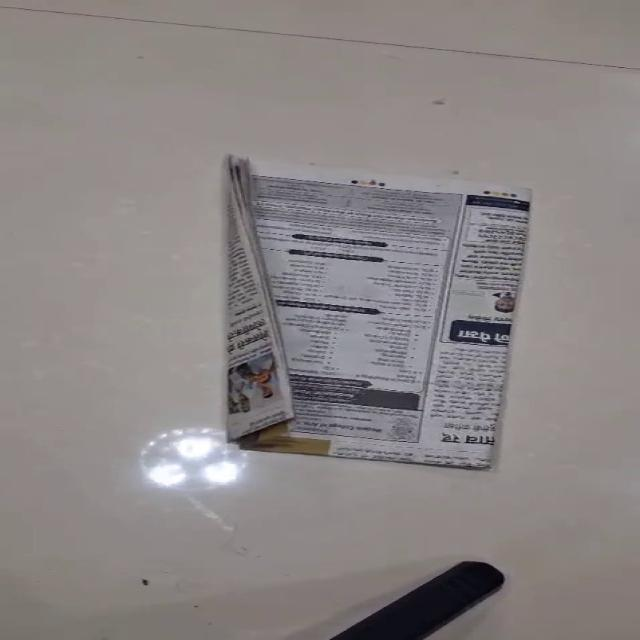paper: (223, 154, 533, 470)
